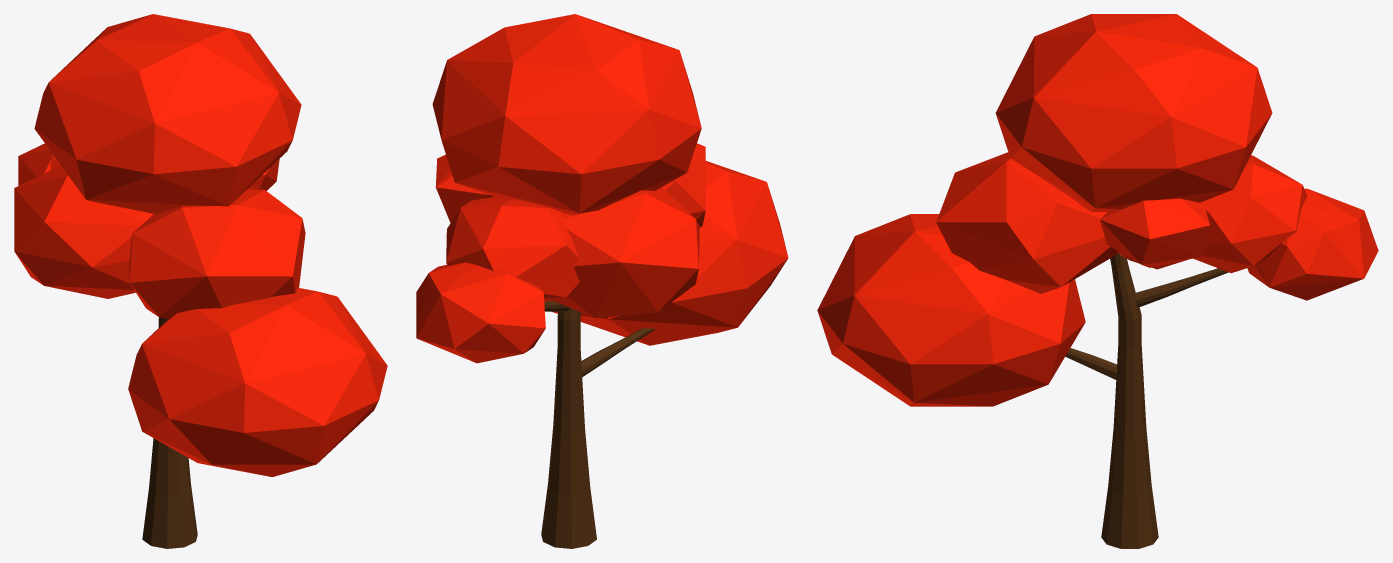
Rendered from Maple_Tree_Tall_003.fbx.
3 views of the same model, side by side, from view 1: azimuth 30°, elevation 25°; view 2: azimuth 150°, elevation 25°; view 3: azimuth 270°, elevation 25° (orthographic).
Visible parts, largest first — view 1: Maple Tree Tall.003; view 2: Maple Tree Tall.003; view 3: Maple Tree Tall.003.
Boxes of the visible parts, x1,y1,x2,y2 form: Maple Tree Tall.003: (14,14,387,548); Maple Tree Tall.003: (416,14,788,548); Maple Tree Tall.003: (817,14,1378,548).
Size of the model in its own units: 222 by 406 by 404.
